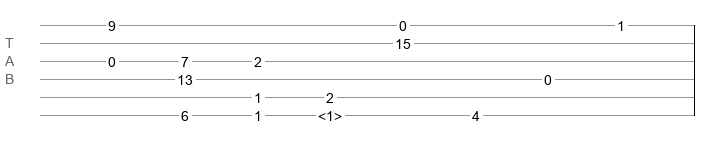0: (108, 54, 116, 64), (399, 18, 407, 28), (544, 72, 552, 82)
1: (254, 108, 262, 118), (254, 90, 262, 100), (617, 18, 625, 28)
13: (177, 72, 193, 82)
15: (395, 36, 411, 46)
2: (254, 54, 262, 64), (326, 90, 334, 100)
4: (472, 108, 480, 118)
6: (181, 108, 189, 118)
7: (181, 54, 189, 64)
9: (108, 18, 116, 28)
harmonic: (318, 108, 342, 118)
